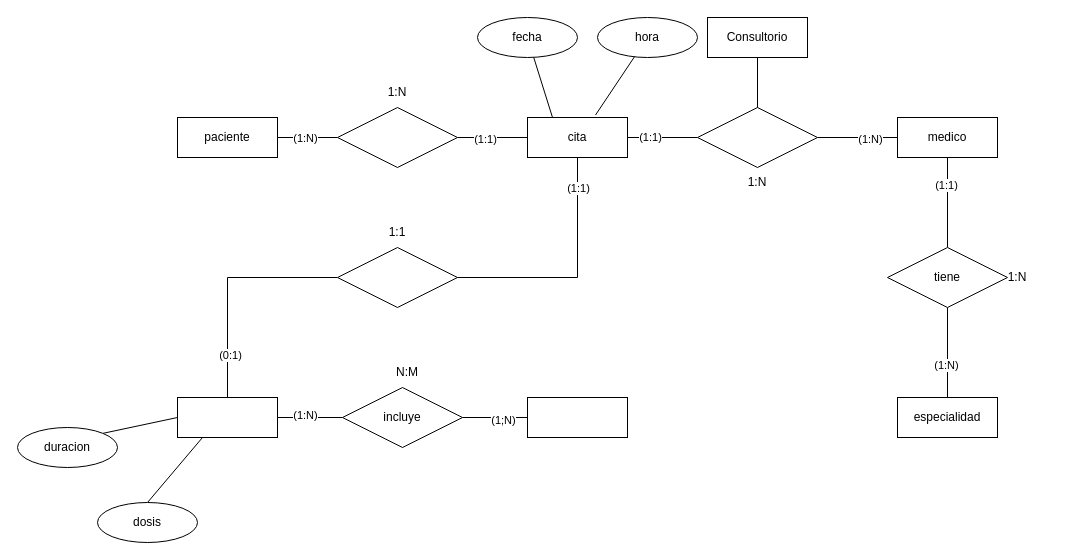
Some shapes in this 1065 by 560 pixel diagram are drawn without their labels. The shapes that lost their labels are listed below. From the top down, each one's centre as x and y in pixels, then its label:
At (397,137): "solicita".
At (757,137): "atiende".
At (397,277): "genera".
At (227,417): "receta".
At (577,417): "medicamento".
